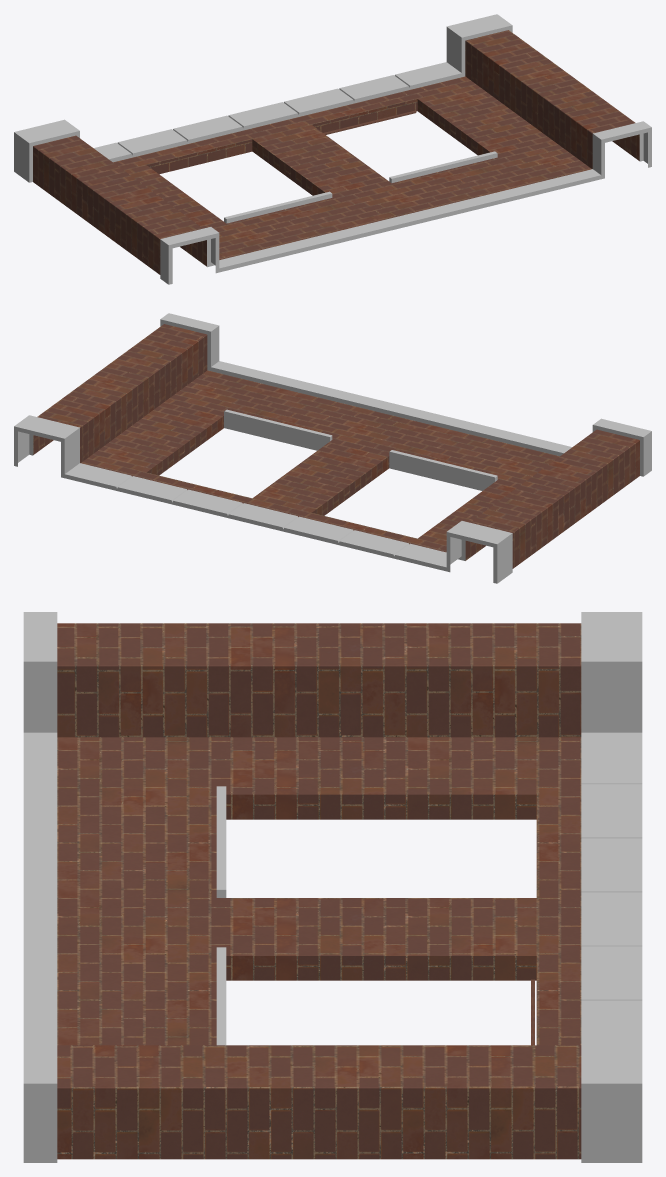
File: BrickFacade.FBX
3 renders of one model, top to bottom at view 1: azimuth 30°, elevation 25°; view 2: azimuth 150°, elevation 25°; view 3: azimuth 270°, elevation 25°, orthographic. The views are drawn at different scales.
Parts seen in each view (by area): view 1: Facade; view 2: Facade; view 3: Facade.
Boxes of the visible parts, x1,y1,x2,y2 form: Facade: (14, 14, 651, 284); Facade: (14, 313, 651, 583); Facade: (23, 612, 642, 1162).
Bounding box in the file's own units: 574 × 58.91 × 318.
